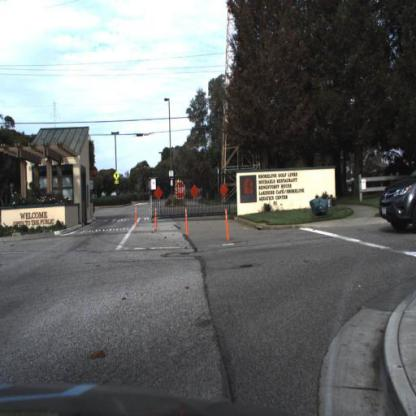car: (379, 169, 416, 240)
